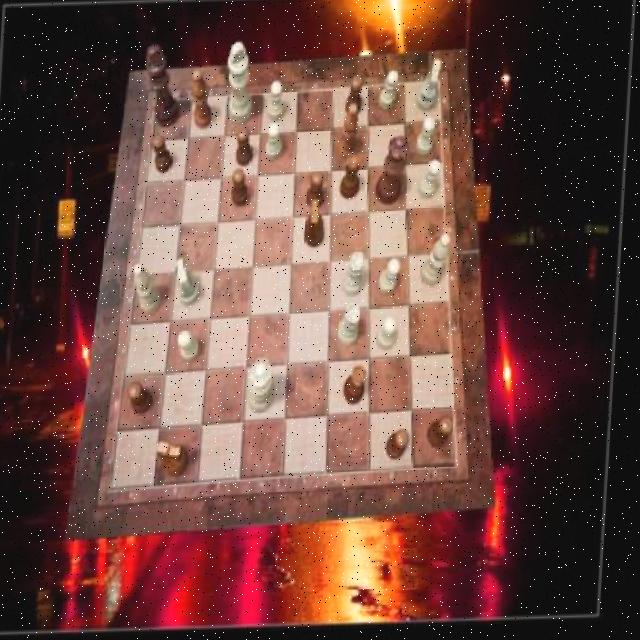bishop: (190, 72, 215, 131), (339, 105, 361, 163)
black-bishop: (143, 45, 184, 128)
black-king: (160, 441, 195, 478), (306, 203, 329, 251)
black-knight: (151, 136, 175, 175), (131, 382, 157, 416), (432, 419, 458, 451), (390, 431, 415, 463), (237, 129, 256, 168), (308, 174, 327, 212), (234, 169, 253, 207), (346, 79, 363, 119)
black-pawn: (376, 138, 412, 208)
black-queen: (341, 154, 363, 201), (347, 368, 371, 408)
black-rook: (134, 263, 166, 315), (423, 237, 453, 290)
white-bishop: (225, 43, 256, 126)
white-king: (176, 260, 205, 308), (416, 63, 441, 115)
white-knight: (418, 163, 443, 202), (380, 260, 403, 296), (417, 120, 437, 159), (180, 332, 204, 363), (380, 74, 399, 113), (268, 84, 286, 125), (380, 320, 400, 353), (267, 124, 284, 162)
white-pawn: (251, 359, 281, 414)
white-queen: (345, 252, 370, 298), (340, 306, 365, 349)
